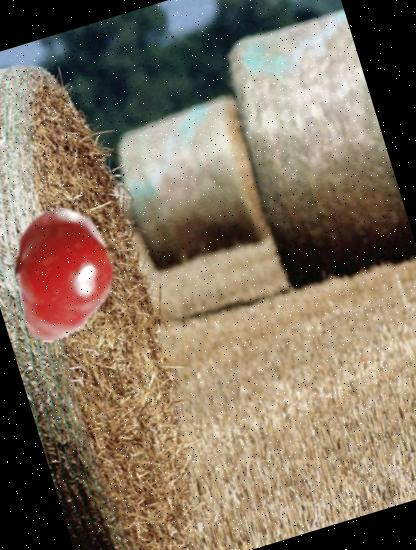Tomato: (0, 191, 149, 360)
